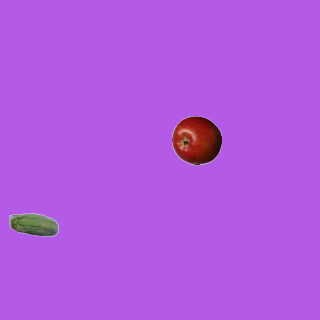Apple Braeburn: (171, 115, 221, 165)
Corn Husk: (8, 201, 58, 251)
